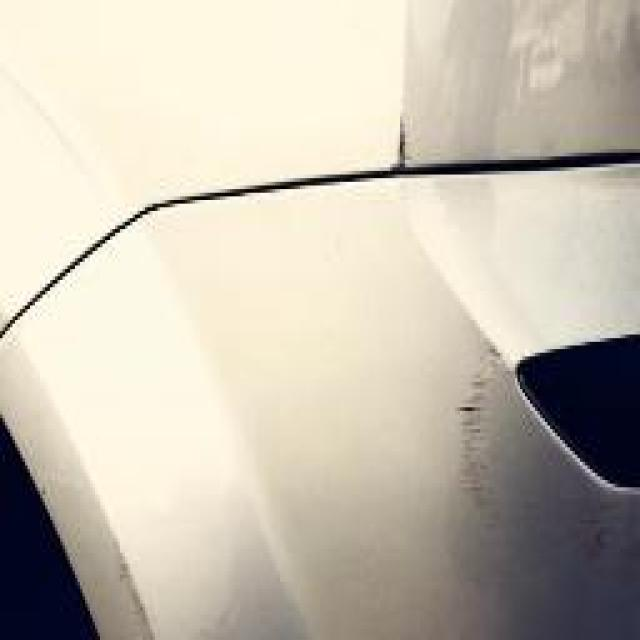Bumper: (328, 204, 640, 596)
Fender: (320, 29, 432, 171)
